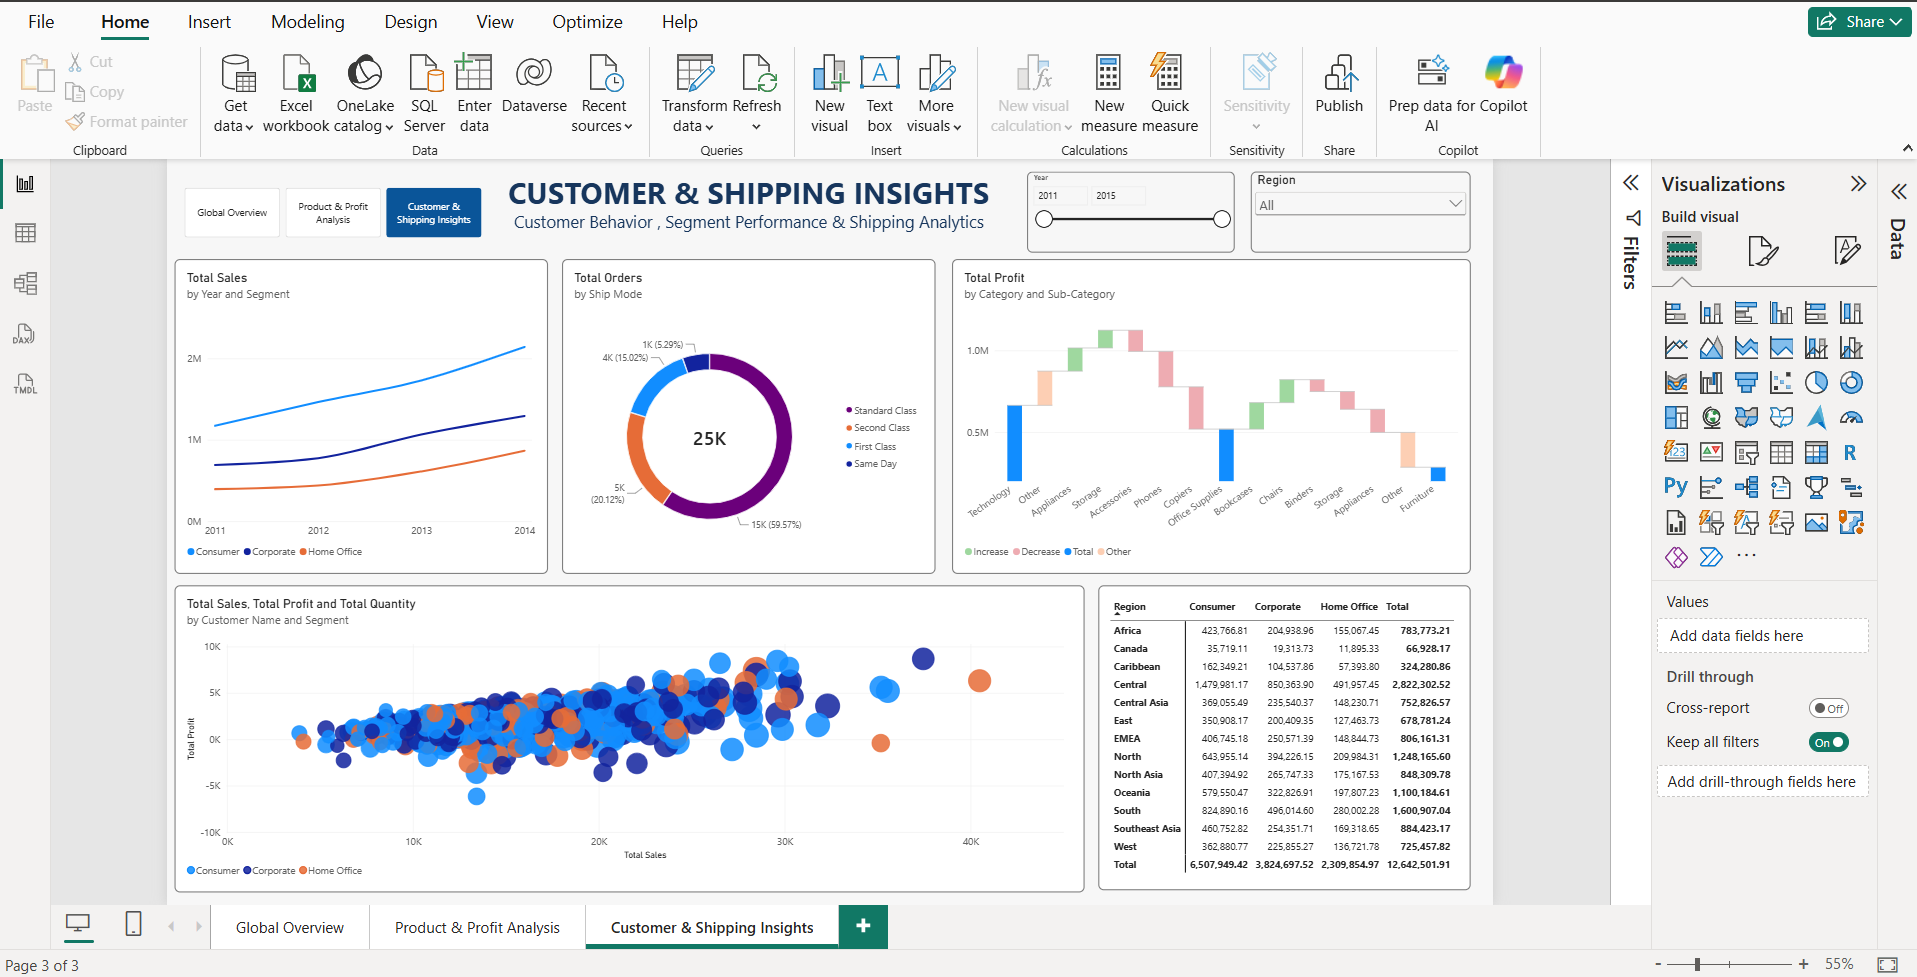

The dashboard page shown, as its layout file describes it:
{"tool":"powerbi","page":{"name":"Customer & Shipping Insights","canvas":[1920,1080],"ordinal":2},"visuals":[{"type":"textbox","box":[479.6,18.1,725.7,117.6],"z":0},{"type":"lineChart","fields":{"Category":["DateTable.Year"],"Series":["Orders.Segment"],"Y":["Orders.Total Sales"]},"box":[10.9,144.8,541.1,456],"z":1},{"type":"donutChart","fields":{"Category":["Orders.Ship Mode"],"Y":["Orders.Total Orders"]},"box":[571.9,144.8,541.1,456],"z":2},{"type":"scatterChart","fields":{"Category":["Orders.Customer Name"],"Series":["Orders.Segment"],"Size":["Orders.Total Quantity"],"X":["Orders.Total Sales"],"Y":["Orders.Total Profit"]},"box":[10.9,617.1,1317.4,445.2],"z":3},{"type":"pivotTable","fields":{"Columns":["Orders.Segment"],"Rows":["Orders.Region"],"Values":["Orders.Total Sales"]},"box":[1348.2,617.1,539.3,441.6],"z":4},{"type":"waterfallChart","fields":{"Breakdown":["Orders.Sub-Category"],"Category":["Orders.Category"],"Y":["Orders.Total Profit"]},"box":[1136.5,144.8,751,456],"z":5},{"type":"slicer","fields":{"Values":["DateTable.Year"]},"box":[1245,18.1,300.4,117.6],"z":6},{"type":"slicer","fields":{"Values":["Orders.Region"]},"box":[1569,18.1,318.5,117.6],"z":7},{"type":"pageNavigator","box":[25.3,41.6,430.7,72.4],"z":8}]}

Visuals, with their boxes on the page's 1920x1080 design canvas (x1, y1, x2, y2). These are canvas units, not pixel positions in the 1917x977 screenshot, which may show the page scaled, cropped or inside an application window:
textbox: BBox(480, 18, 1205, 136)
lineChart - DateTable.Year x Orders.Segment: BBox(11, 145, 552, 601)
donutChart - Orders.Ship Mode x Orders.Total Orders: BBox(572, 145, 1113, 601)
scatterChart - Orders.Customer Name x Orders.Segment: BBox(11, 617, 1328, 1062)
pivotTable - Orders.Segment x Orders.Region: BBox(1348, 617, 1888, 1059)
waterfallChart - Orders.Sub-Category x Orders.Category: BBox(1136, 145, 1888, 601)
slicer - DateTable.Year: BBox(1245, 18, 1545, 136)
slicer - Orders.Region: BBox(1569, 18, 1888, 136)
pageNavigator: BBox(25, 42, 456, 114)
